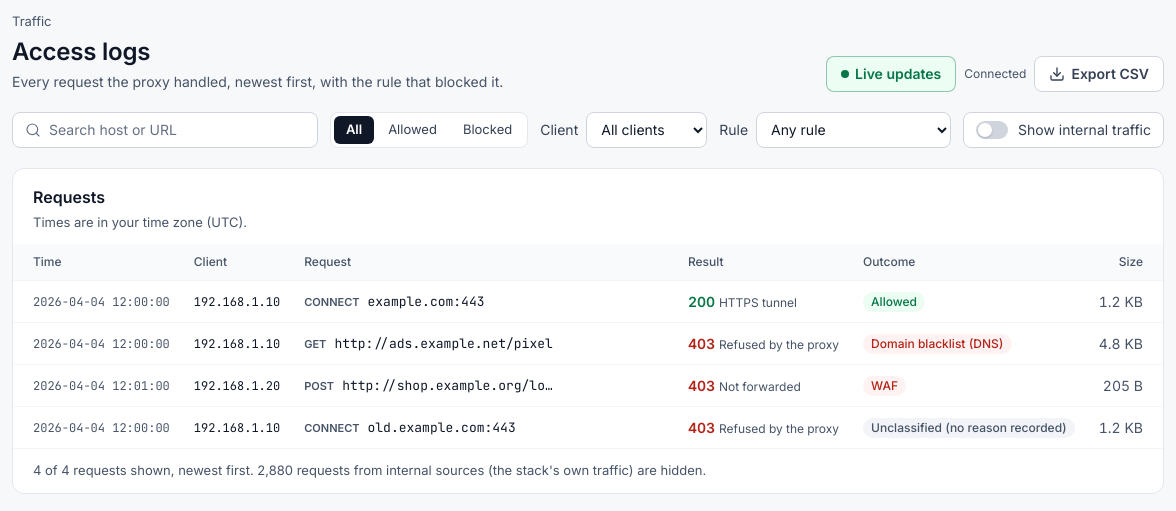
Scenario: Logs › pauses the live feed with one switch of one name, and says the connection in a status line
Expected: the message named "Live updates" reads "Connected", [964, 66, 1026, 80]
Click the button "Live updates" at (891, 74), box [826, 56, 956, 92]
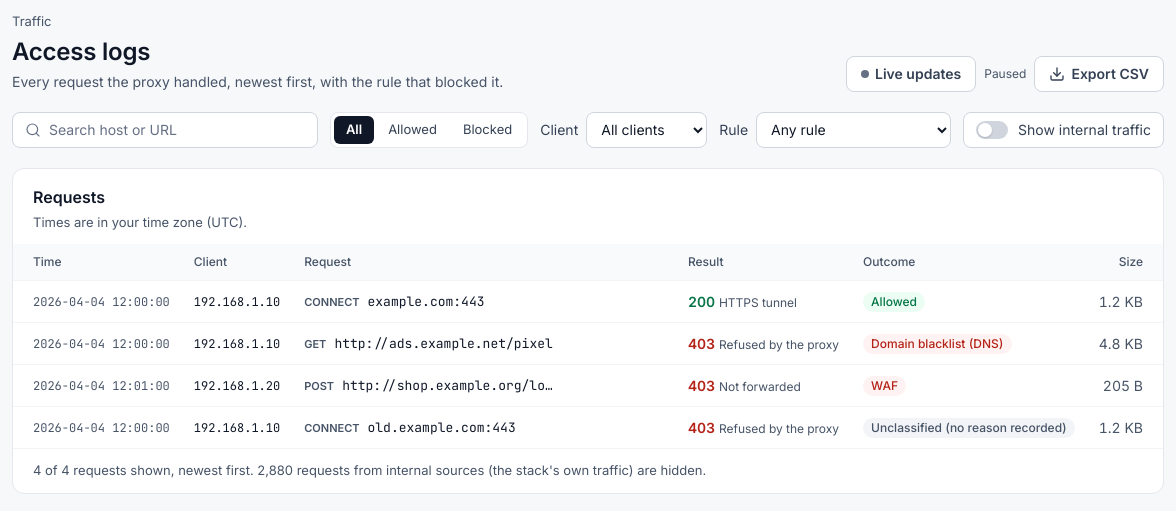
Now the message named "Live updates" reads "Paused", box [984, 66, 1026, 80]
Click the button "Live updates" at (911, 74), box [846, 56, 976, 92]
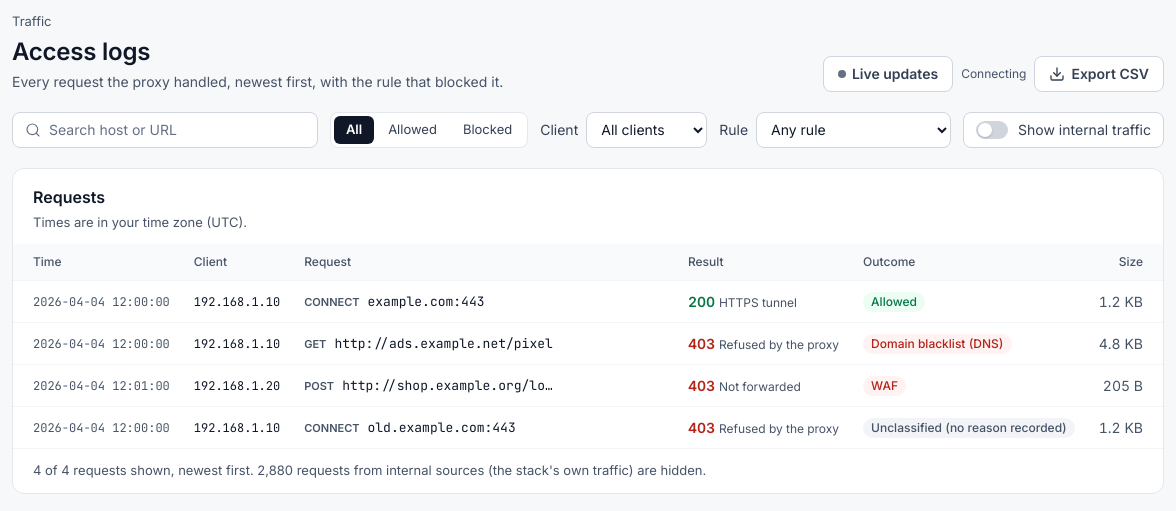
Now the message named "Live updates" reads "Connecting", box [961, 66, 1026, 80]
